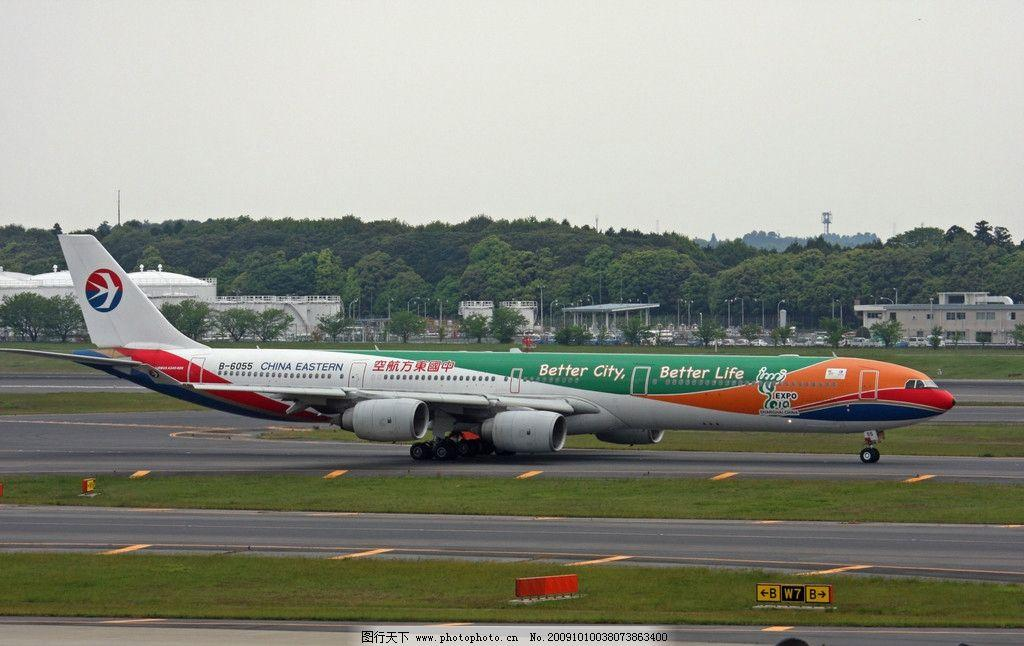airplane: (47, 228, 958, 471)
